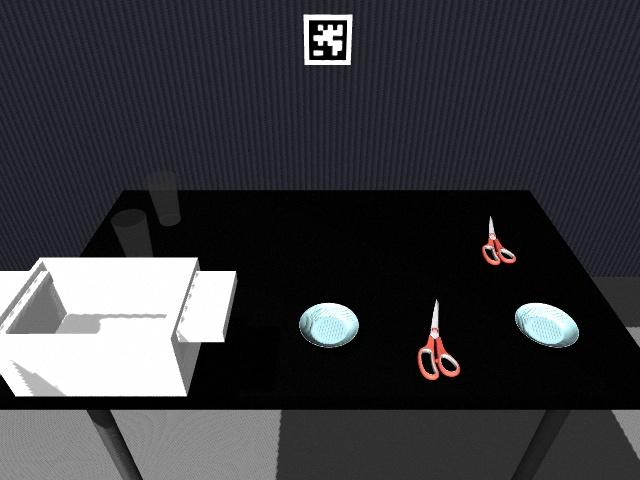cup: (147, 170, 181, 226), (112, 210, 151, 258)
plate: (298, 303, 360, 348), (516, 304, 576, 345), (515, 306, 532, 331)
scissors: (417, 297, 464, 382), (482, 214, 518, 267)
